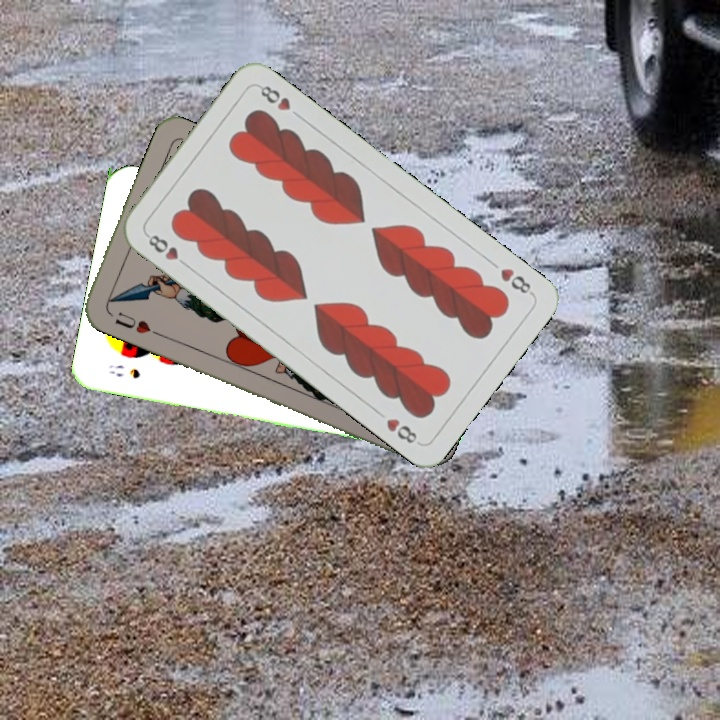H8: (142, 229, 192, 271), (496, 264, 536, 298)
HU: (111, 307, 161, 338)
S8: (105, 360, 142, 381)
